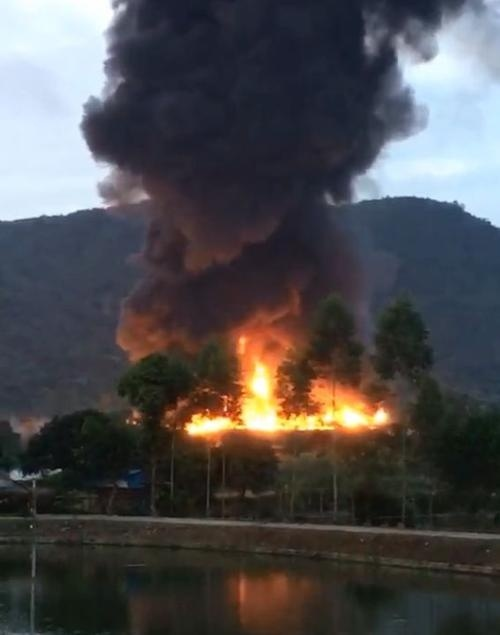fire: (178, 336, 396, 435)
